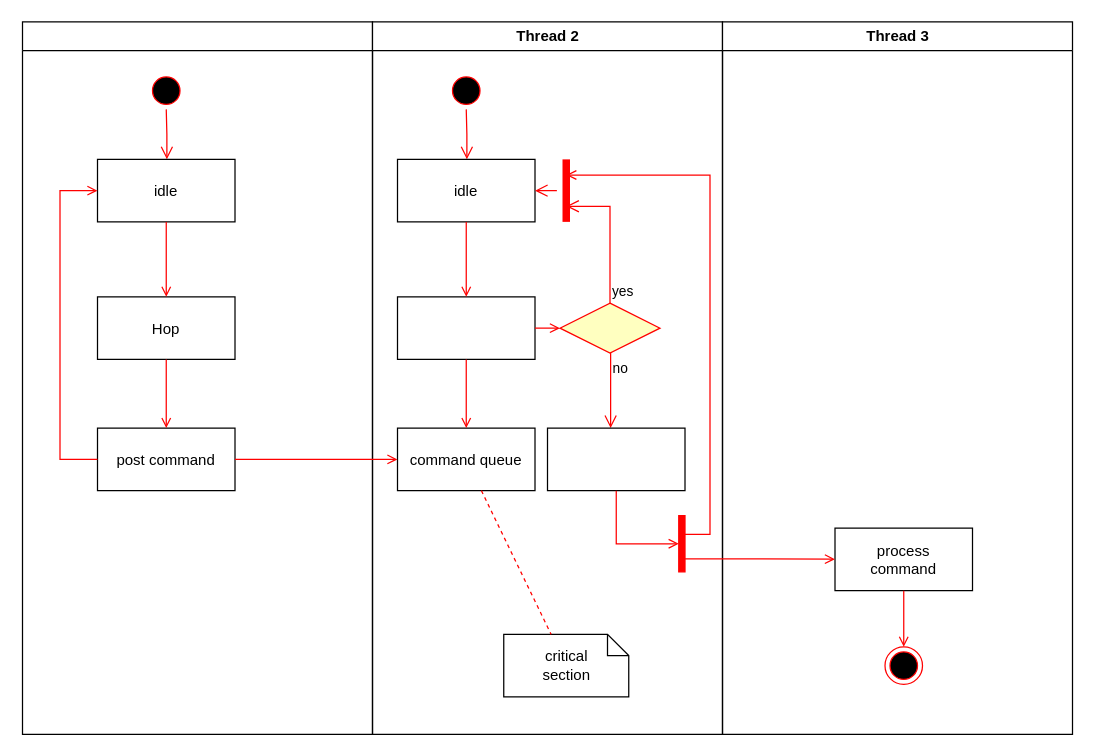
Image size: 1094x756. Some labels were removed from this diagram. Here are the shapes that lost their labels. From the top down, the box of each, then its label:
(396, 296, 535, 359): check for new commands
(559, 302, 660, 353): queue empty
(21, 21, 372, 734): Thread 1
(546, 427, 685, 491): dispatch command worker thread
